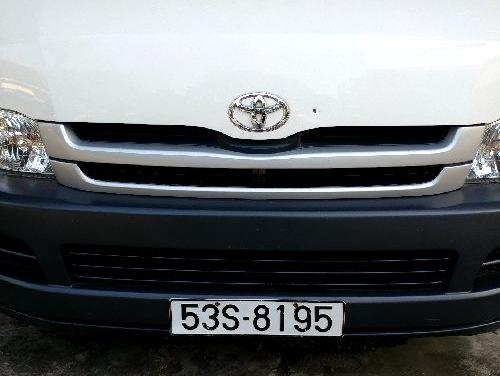lisence: (164, 294, 350, 340)
